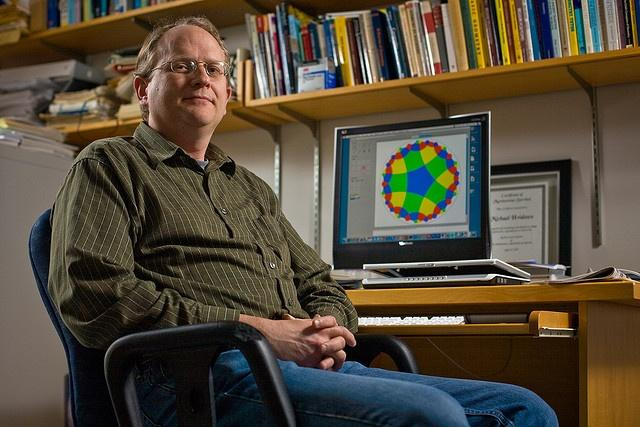AIO PC-Monitor-TV: (330, 109, 492, 270)
